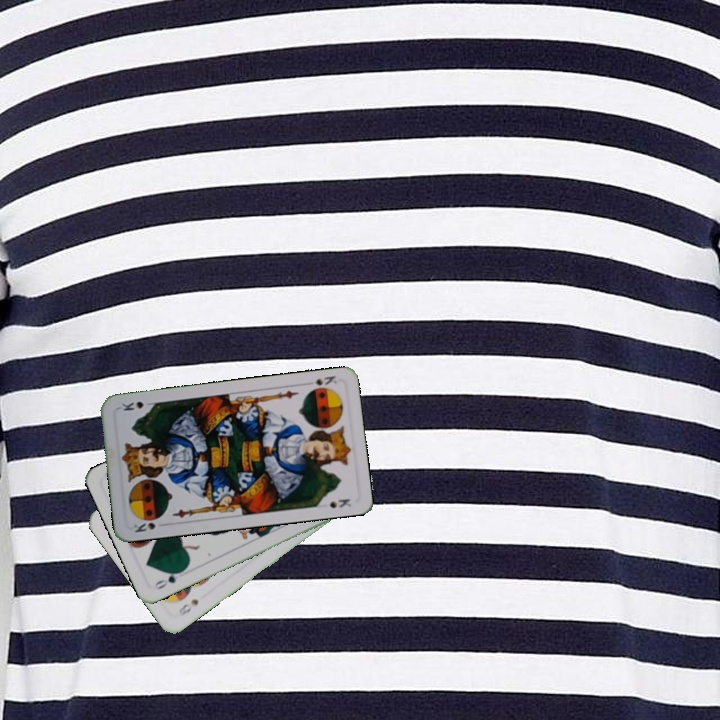GO: (150, 565, 187, 592)
S8: (173, 595, 201, 618)
SK: (301, 371, 339, 394), (129, 518, 158, 535)
